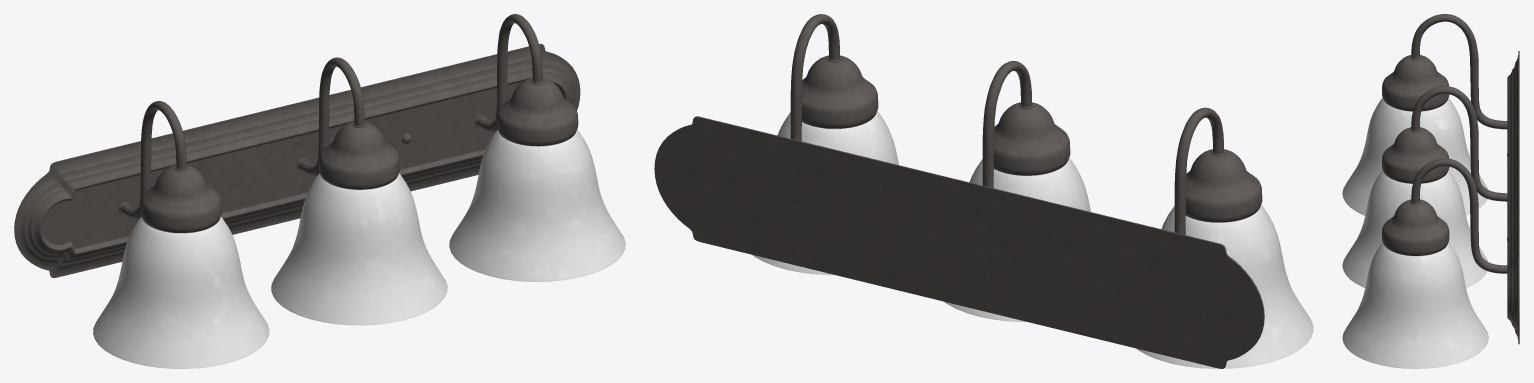
File: abo-B07QC9Y62K.glb
3 renders of one model, left to right at view 1: azimuth 30°, elevation 25°; view 2: azimuth 150°, elevation 25°; view 3: azimuth 270°, elevation 25°, orthographic. The views are drawn at different scales.
Size of the model in its own units: 0.61 by 0.222 by 0.199.
Materials: 1 (1 with a texture image).
